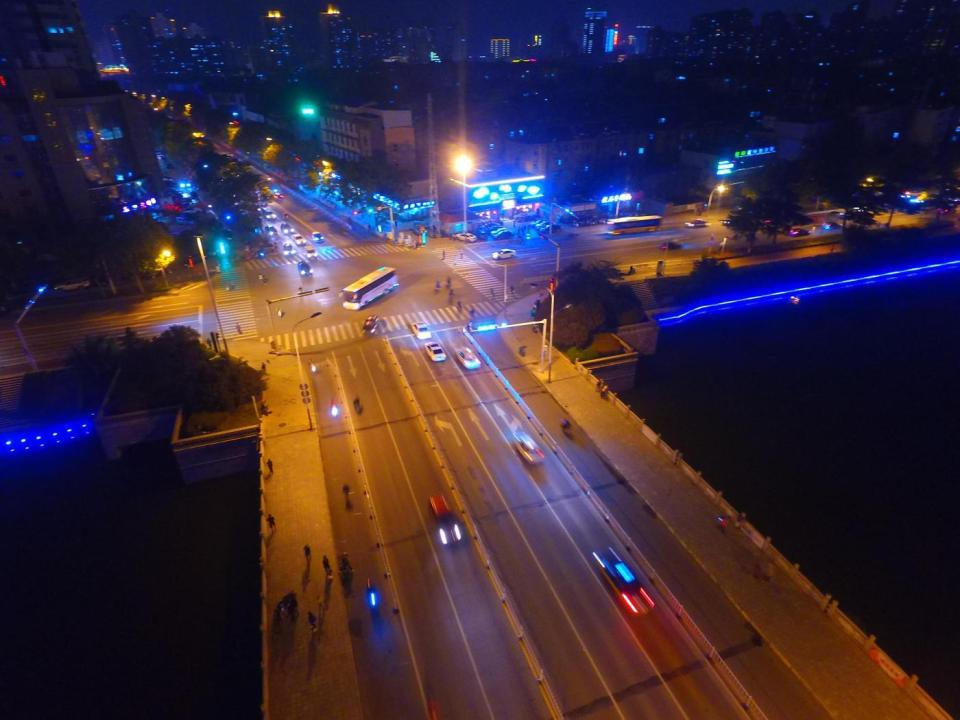bus: (341, 266, 400, 311), (606, 215, 661, 237)
car: (590, 546, 653, 618), (426, 494, 463, 548), (513, 431, 545, 465), (455, 346, 481, 370), (422, 343, 445, 362), (360, 314, 379, 336), (940, 185, 958, 207), (412, 320, 431, 339), (492, 247, 516, 260), (453, 232, 478, 243), (787, 227, 811, 238), (685, 218, 711, 228), (657, 241, 678, 252), (820, 221, 841, 232), (298, 261, 312, 277), (489, 228, 511, 238), (494, 230, 515, 240), (303, 246, 318, 259), (530, 219, 551, 228), (541, 225, 562, 234), (175, 216, 194, 225), (311, 232, 325, 244), (480, 223, 500, 231), (280, 224, 293, 236), (292, 234, 306, 245), (488, 226, 506, 234), (282, 244, 295, 255), (183, 207, 203, 214), (537, 222, 557, 229), (264, 226, 278, 235), (264, 211, 276, 221)
van: (412, 221, 427, 236), (475, 229, 488, 241)
